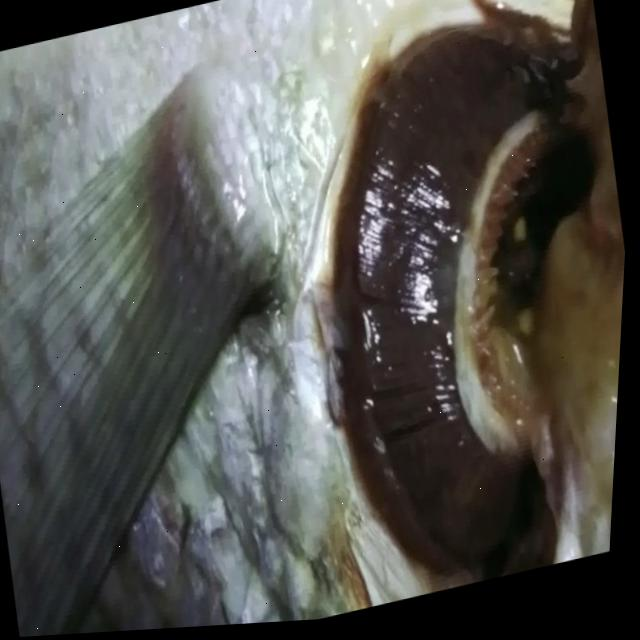Non-Fresh: (217, 0, 640, 627)
